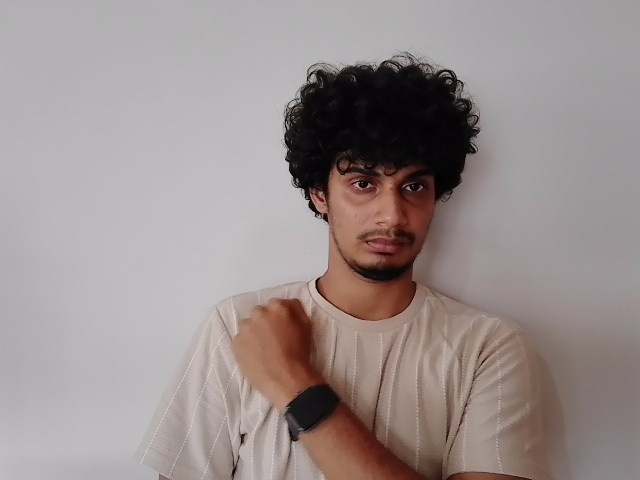sorry: (139, 281, 367, 466)
